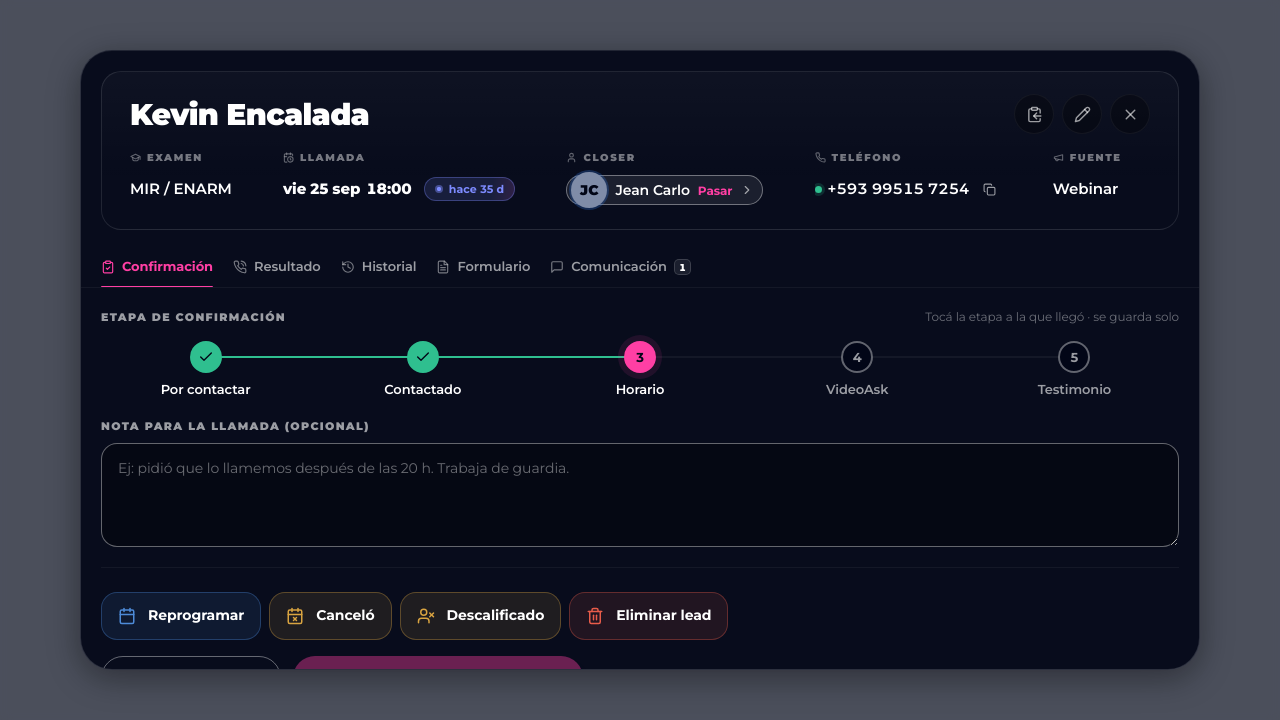
Test case: la franja en modo edición › guardar sin tocar nada cierra sin pedirle nada al backend
The image size is (1280, 720).
Expected: the tab "Confirmación" is shown, [101,246,213,287]
Step 1. Click the button named "Editar los datos del lead" → (1082,114), box [1062,94,1102,134]
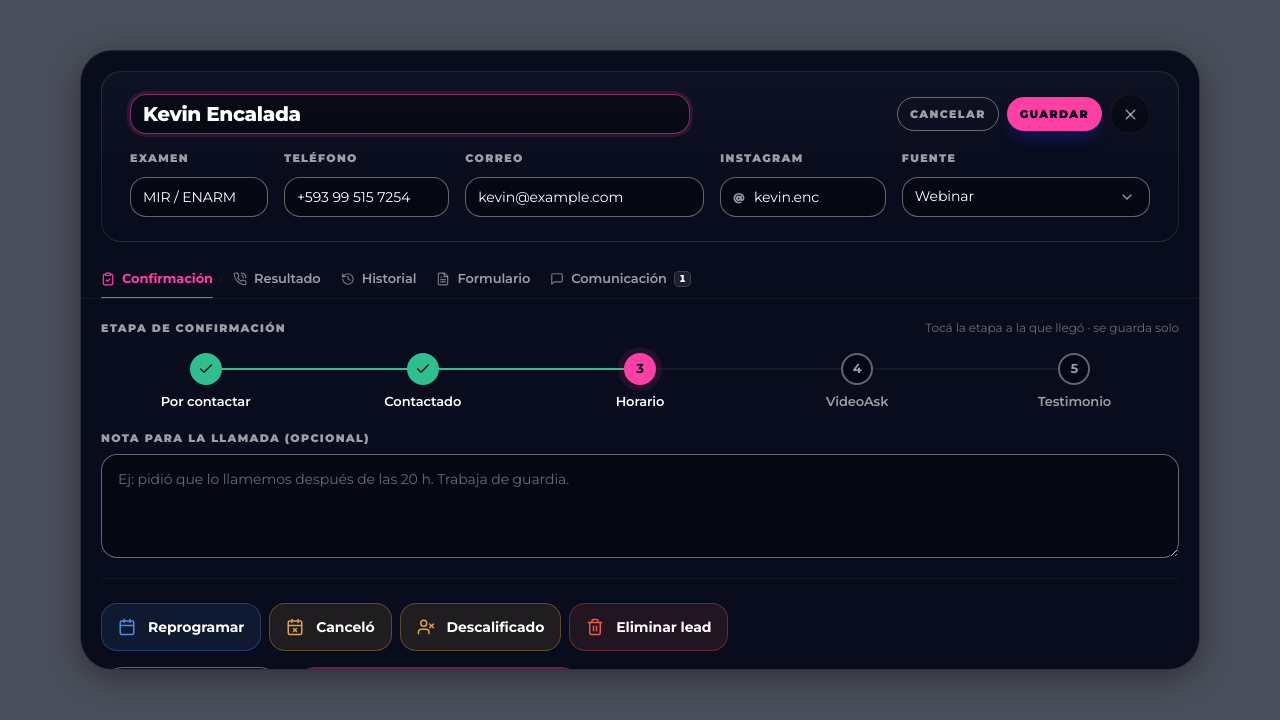
Step 2. Click the button "Guardar" → (1054,114), box [1007,97,1102,131]
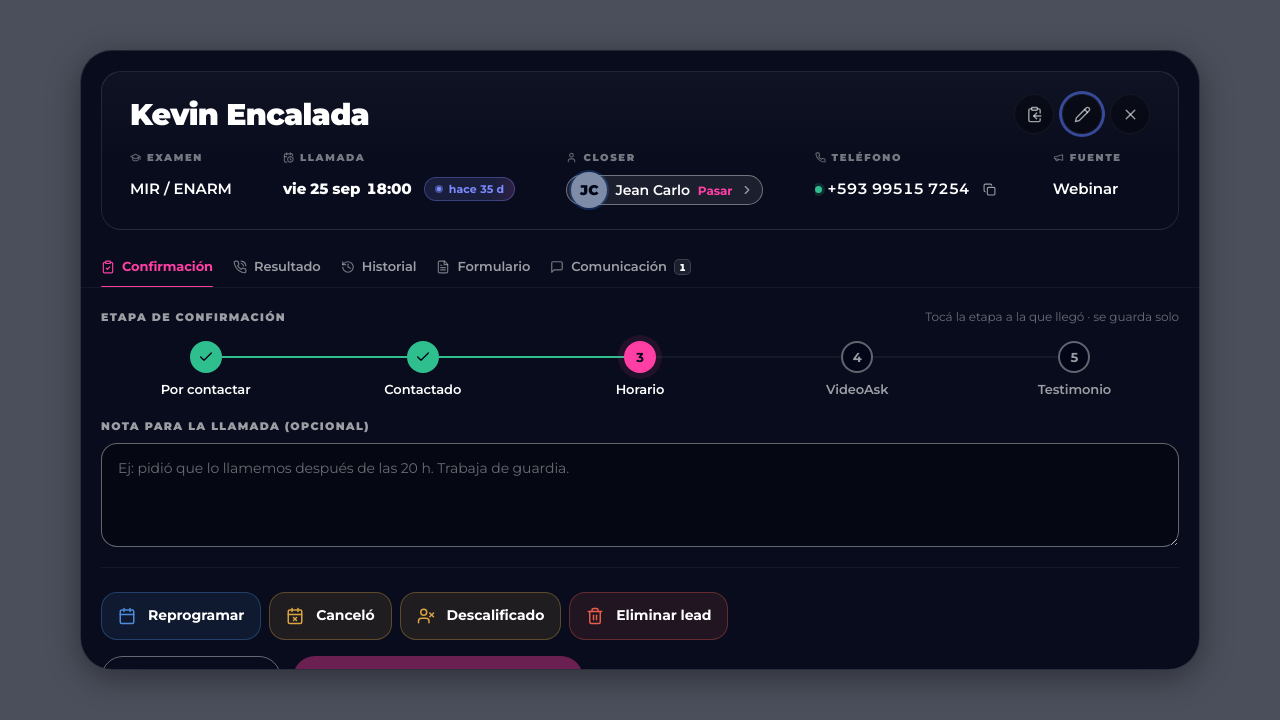
Expected: the heading "Kevin Encalada" is shown, [130,98,369,131]
